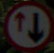Two way: (10, 5, 46, 44)
